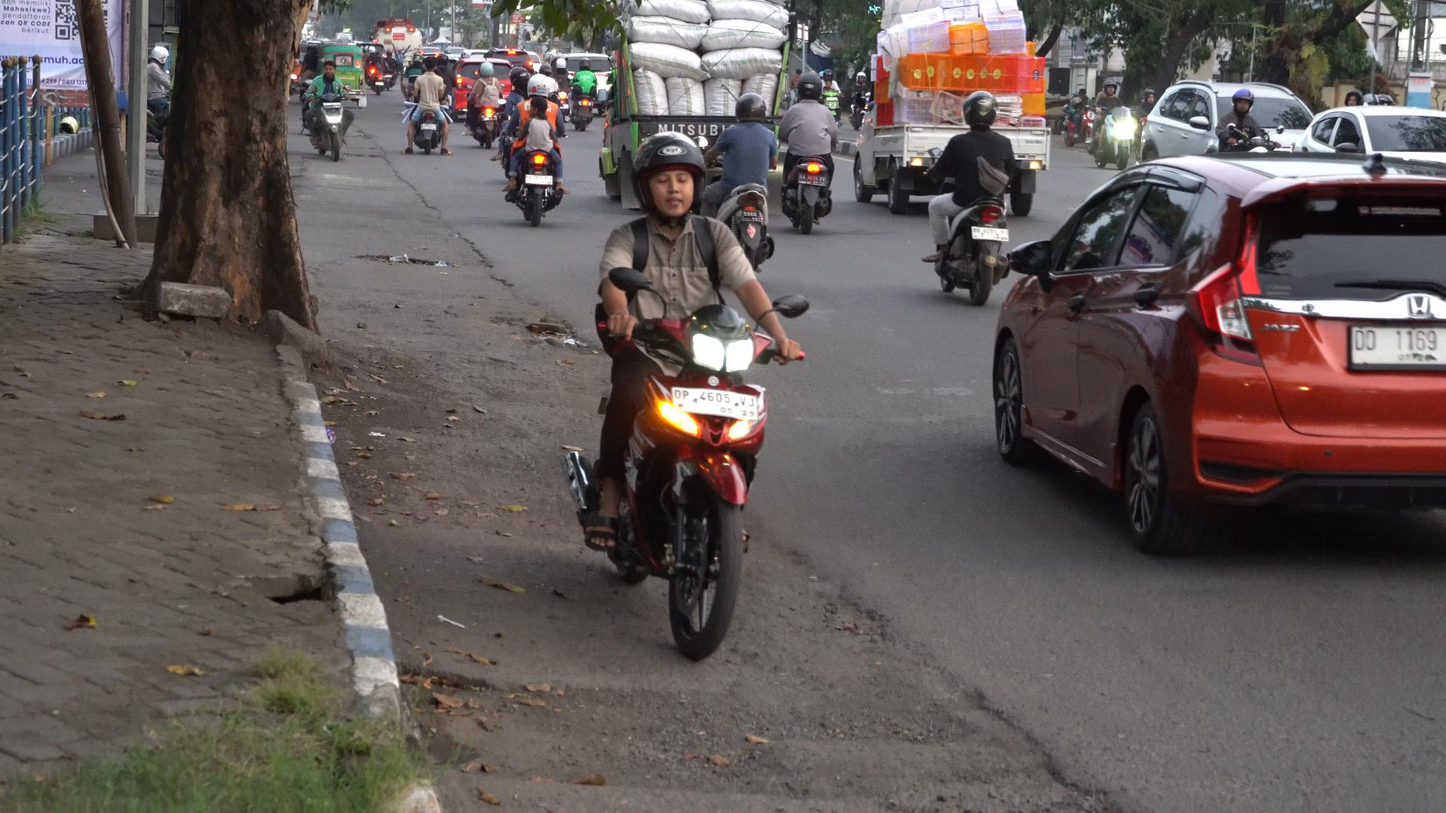number-plate: (673, 386, 761, 422)
